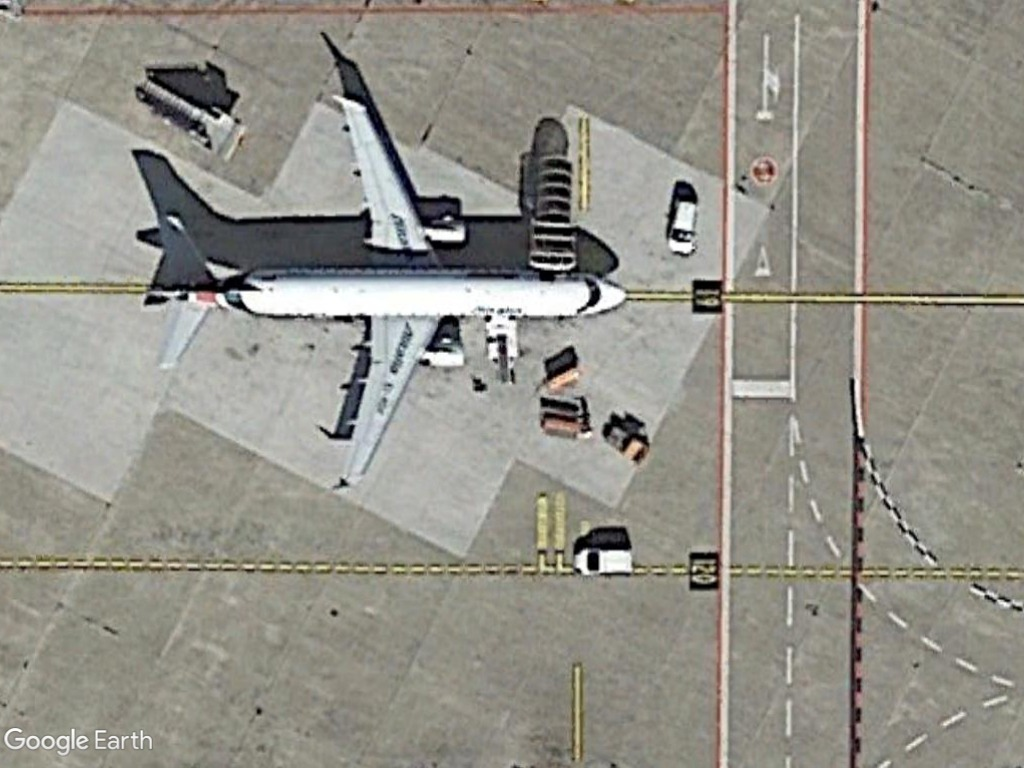airliner: (134, 86, 638, 492)
stairtruck: (134, 71, 250, 167)
van: (665, 192, 702, 261), (572, 542, 636, 581)
